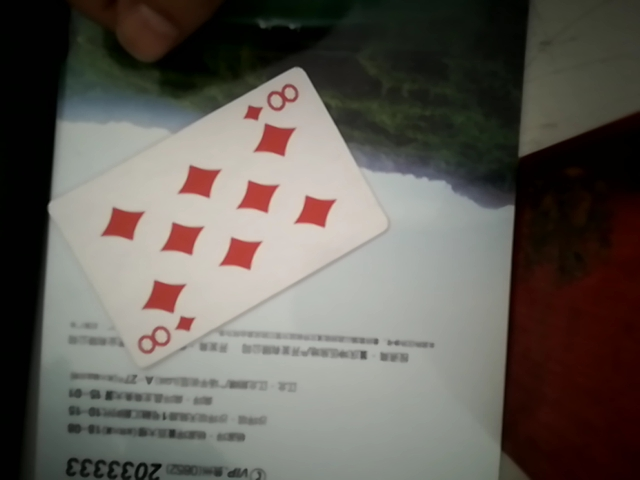fk 8: (59, 56, 381, 359)
